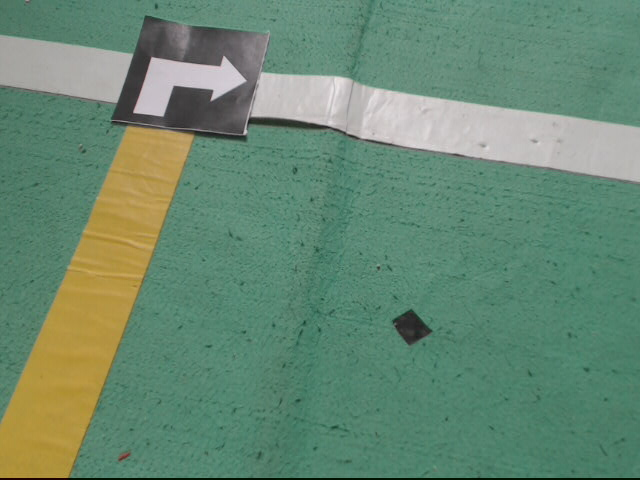right: (111, 15, 271, 140)
